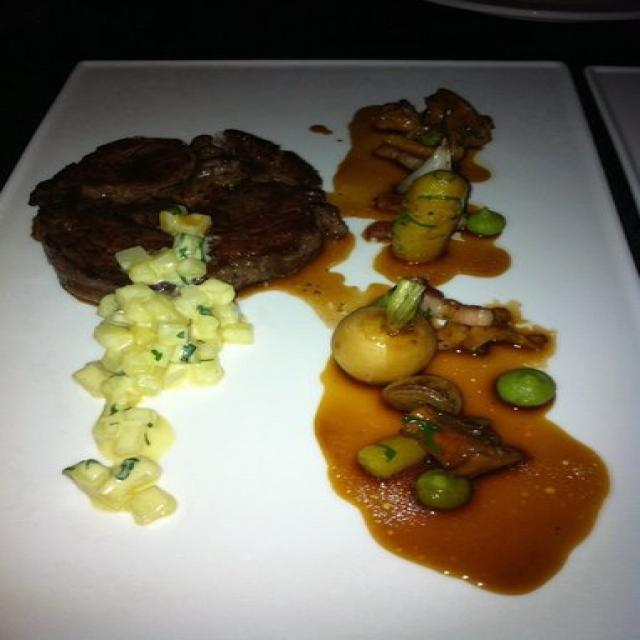Steak: (57, 144, 347, 282)
